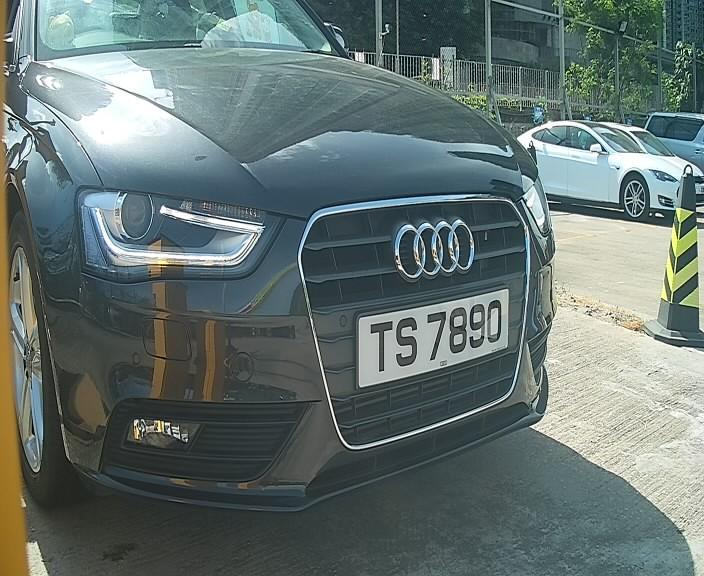privatecar: (10, 24, 566, 512)
